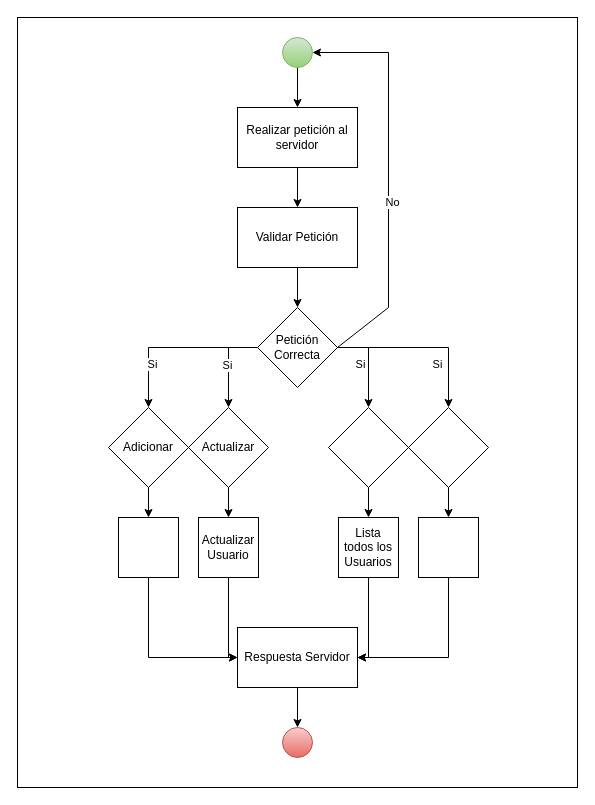
Image size: 595x805. Some labels were removed from this diagram. Each missing label, with the centre of its shape:
"Adicionar Usuario" goes at point (148, 547).
"Elimina Usuario" goes at point (448, 547).
"Eliminar" goes at point (448, 447).
"Listar" goes at point (368, 447).
